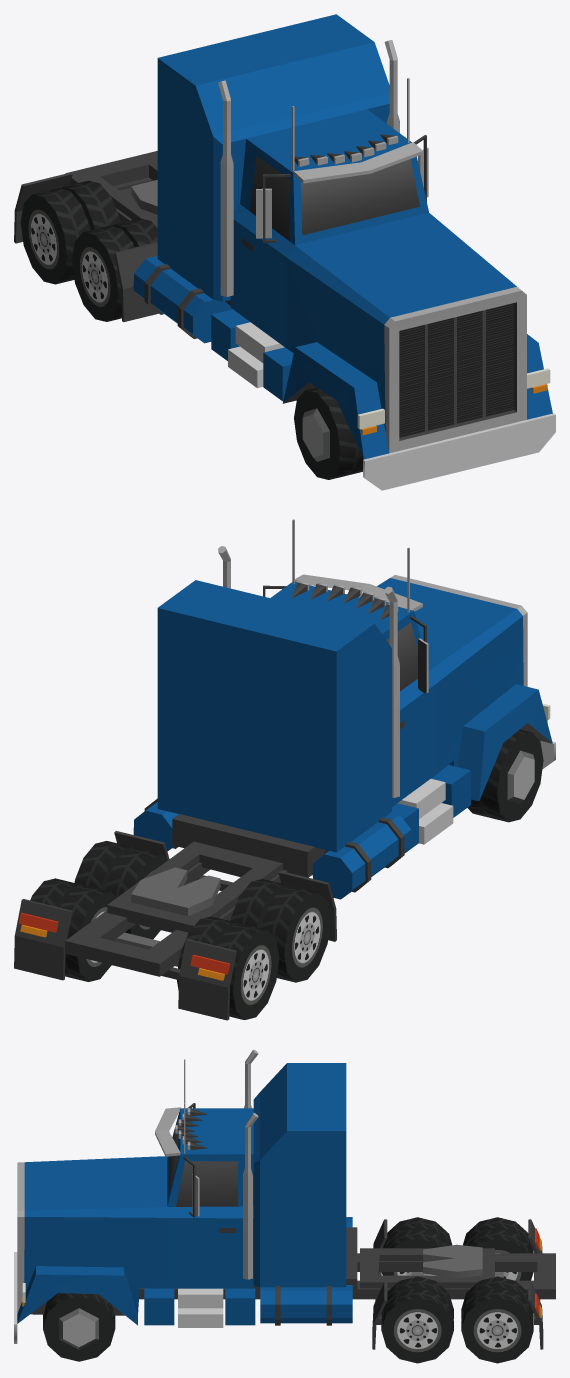
Rendered from TruckAmericanA.fbx.
The picture shows the model from 3 angles, top to bottom: view 1: azimuth 30°, elevation 25°; view 2: azimuth 150°, elevation 25°; view 3: azimuth 270°, elevation 25°; orthographic projection. The views are drawn at different scales.
Visible parts, largest first — view 1: TruckAmericanA, TireBRY, TireBRX, TireFR; view 2: TruckAmericanA, TireBRX, TireBRY, TireFR, TireBLX, TireBLY; view 3: TruckAmericanA, TireBLY, TireBLX, TireFL, TireBRY, TireBRX.
Part boxes in pixels (left/top/right/bottom): TruckAmericanA: left=14, top=14, right=555, bottom=490; TireBRY: left=20, top=180, right=120, bottom=284; TireBRX: left=72, top=218, right=157, bottom=321; TireFR: left=294, top=387, right=363, bottom=479; TruckAmericanA: left=14, top=519, right=555, bottom=1020; TireBRX: left=230, top=879, right=330, bottom=982; TireBRY: left=177, top=916, right=279, bottom=1019; TireFR: left=467, top=729, right=543, bottom=822; TireBLX: left=74, top=841, right=167, bottom=939; TireBLY: left=30, top=878, right=116, bottom=981; TruckAmericanA: left=14, top=1049, right=555, bottom=1349; TireBLY: left=461, top=1276, right=533, bottom=1363; TireBLX: left=381, top=1276, right=453, bottom=1363; TireFL: left=43, top=1293, right=115, bottom=1361; TireBRY: left=463, top=1217, right=533, bottom=1280; TireBRX: left=381, top=1217, right=452, bottom=1275.
Bounding box in the file's own units: 236 × 313 × 637.
